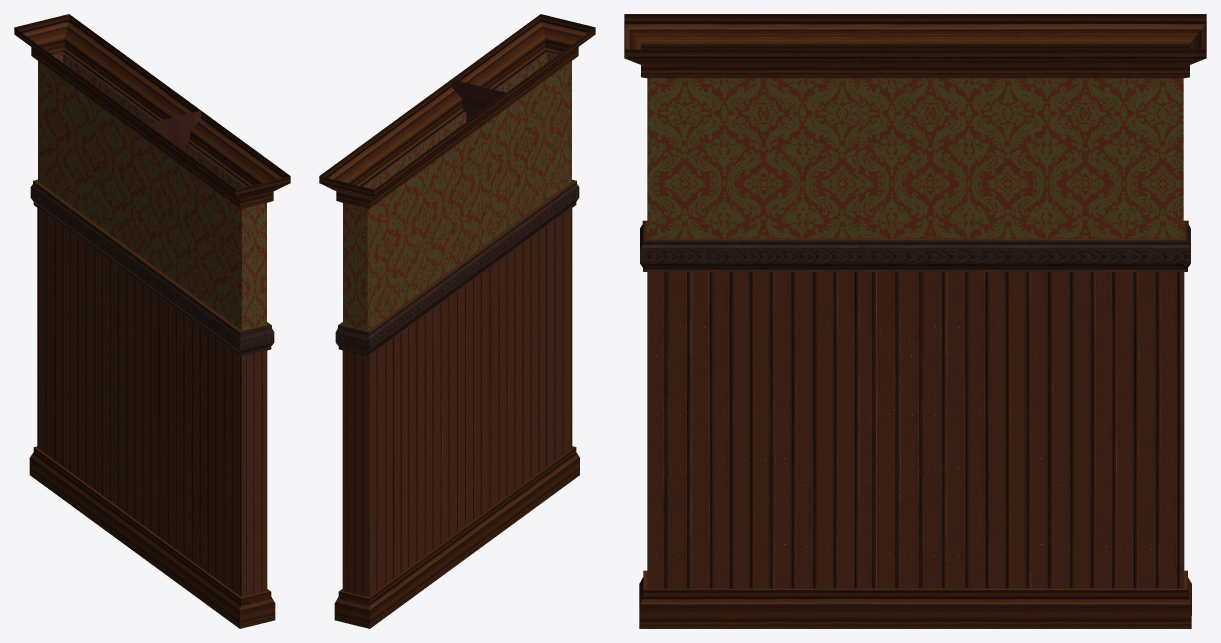
The model's file is RefiinedDoor1.fbx.
The picture shows the model from 3 angles, left to right: view 1: azimuth 30°, elevation 25°; view 2: azimuth 150°, elevation 25°; view 3: azimuth 270°, elevation 25°; orthographic projection. The views are drawn at different scales.
Parts seen in each view (by area): view 1: SecretPassageDOOR2Door, SecretPassageDOOR2F; view 2: SecretPassageDOOR2Door, SecretPassageDOOR2F; view 3: SecretPassageDOOR2Door, SecretPassageDOOR2F.
Boxes of the visible parts, box(x1,y1,x2,y2) form: SecretPassageDOOR2Door: box(14, 14, 201, 567); SecretPassageDOOR2F: box(146, 110, 290, 628); SecretPassageDOOR2Door: box(319, 79, 506, 628); SecretPassageDOOR2F: box(451, 14, 595, 535); SecretPassageDOOR2Door: box(858, 14, 1206, 628); SecretPassageDOOR2F: box(624, 14, 859, 628).
Bounding box in the file's own units: 36.31 × 281 × 253.
